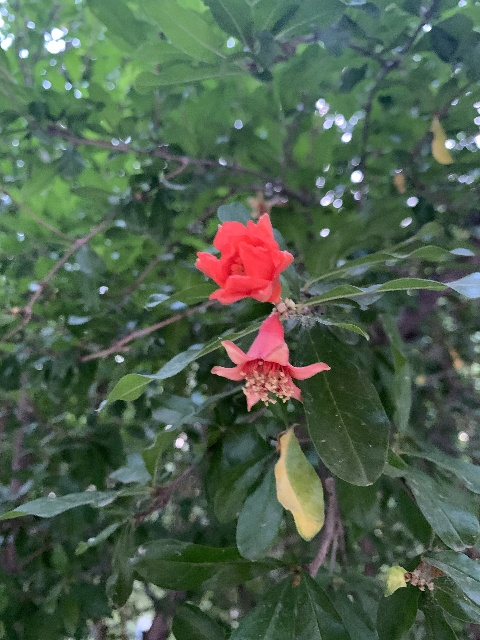flower: (195, 216, 293, 306)
